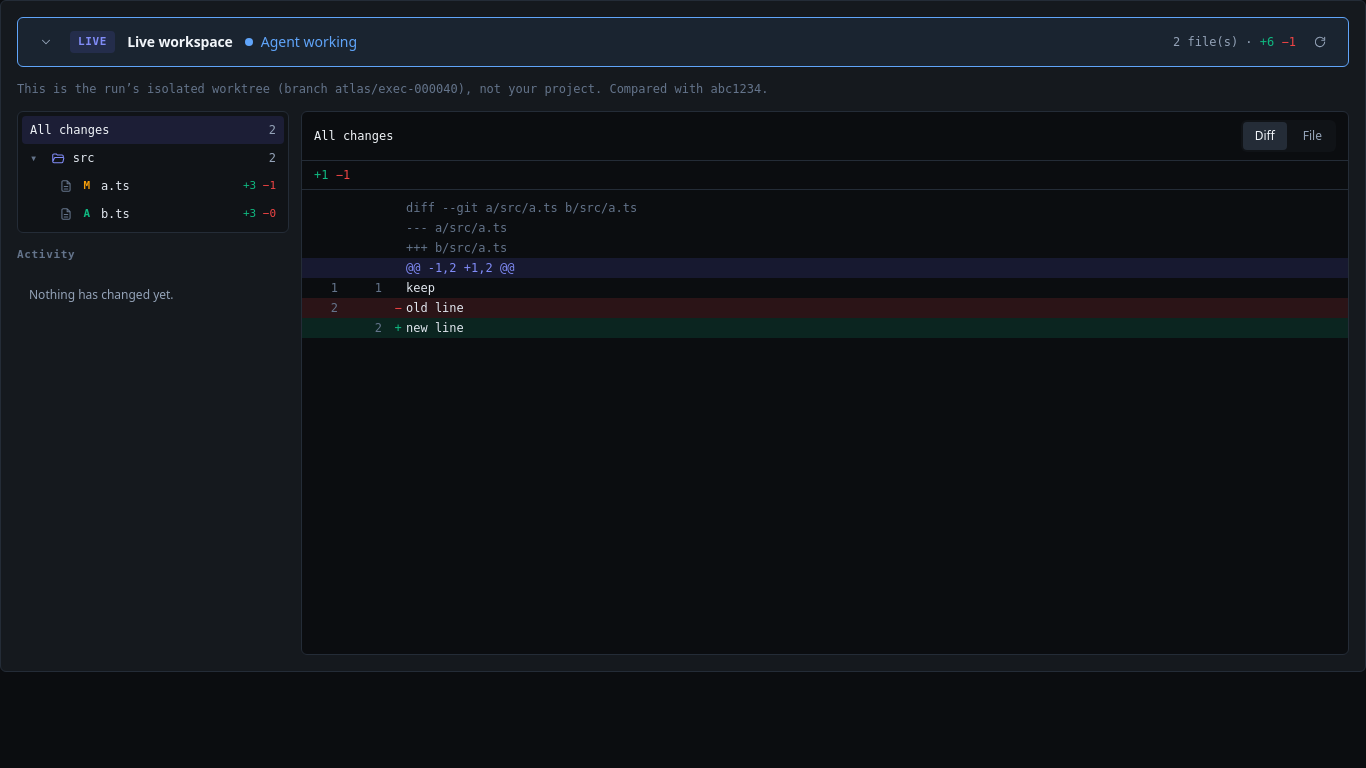
the live workspace: the viewer › reads the selected file again when that file changes, and only then
Click the button with aria-label "src/a.ts (Modified)": [66, 186] box [22,172,284,200]
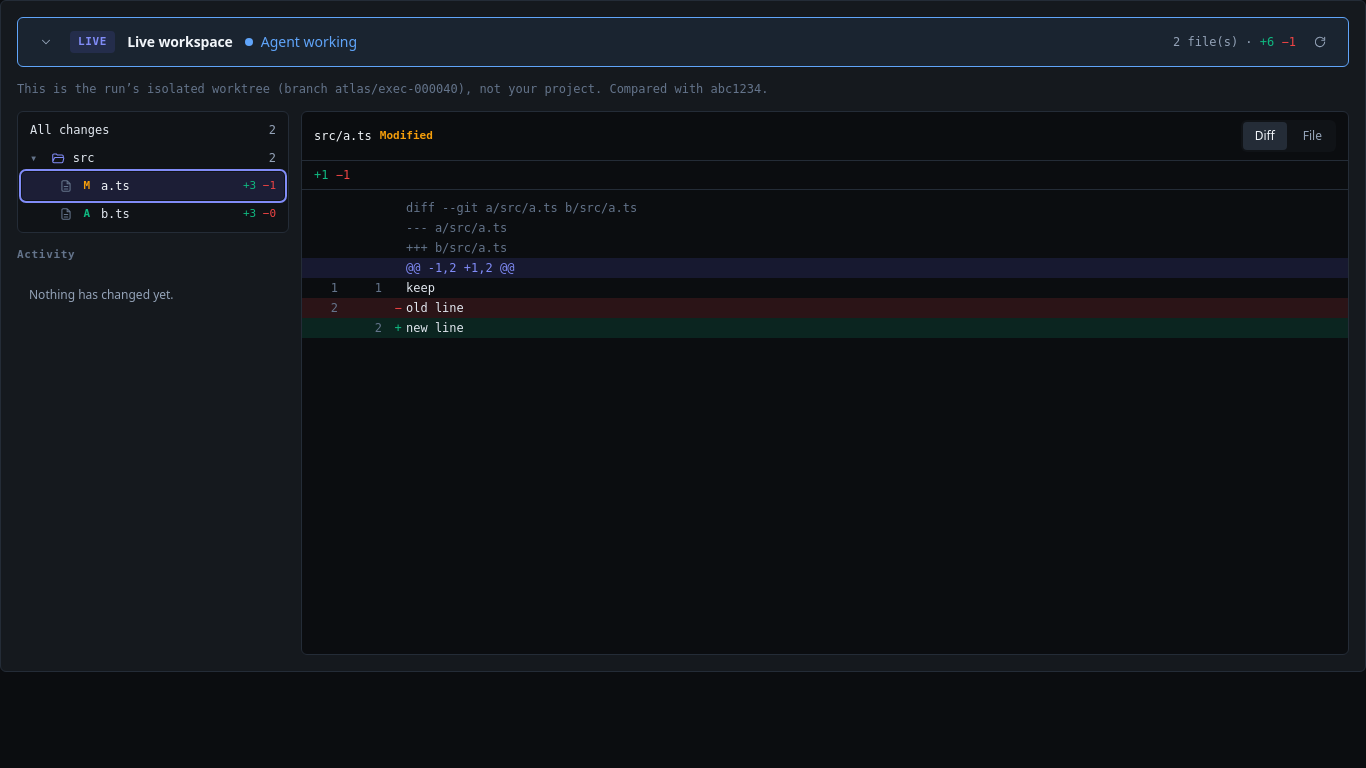
Click the tab "File": [1312, 136] box [1291,122,1334,150]
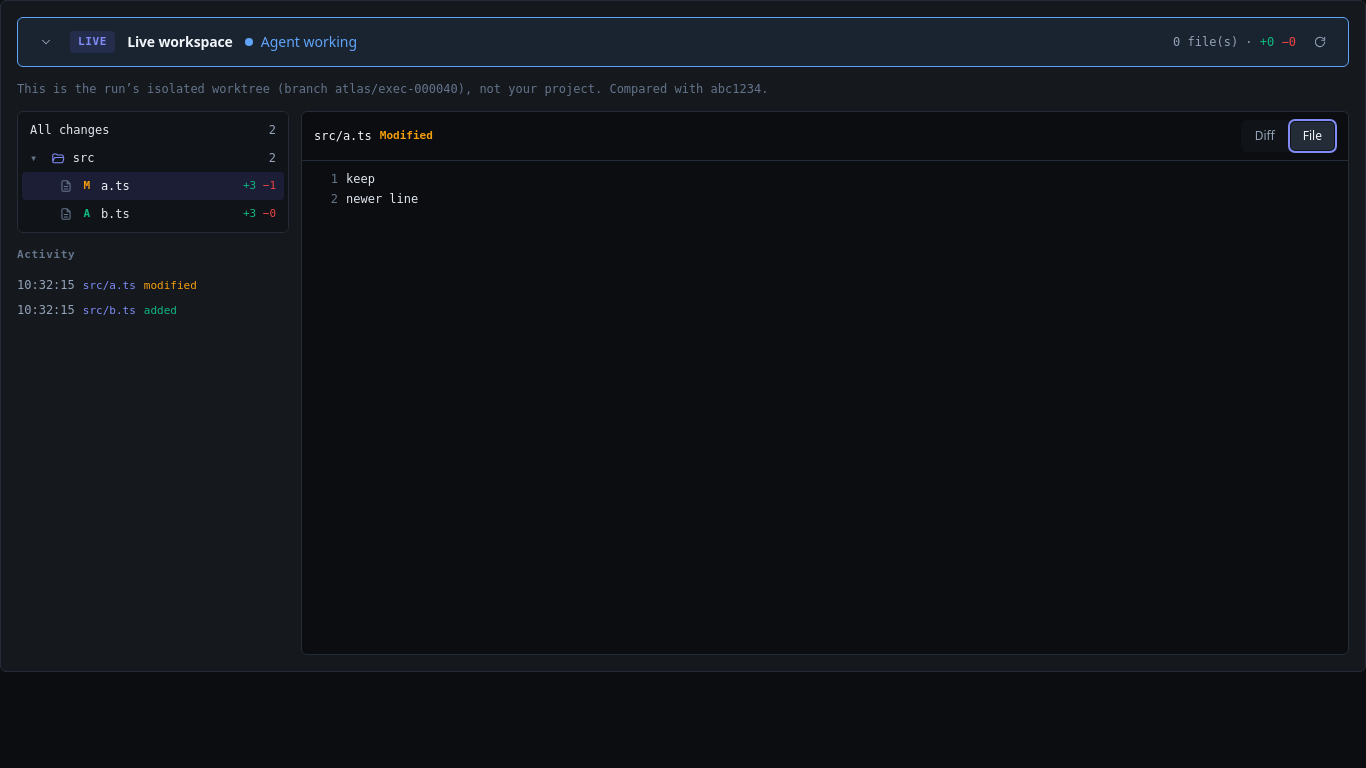
Now the element named "Content of src/a.ts" is shown, box [331,172,418,206]
Now the element named "Content of src/a.ts" shows "newer line", box [346,192,418,206]
